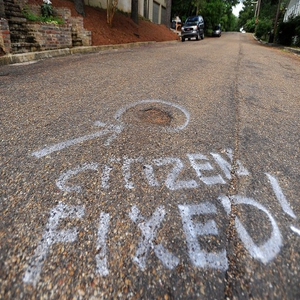pothole: (136, 107, 173, 130)
